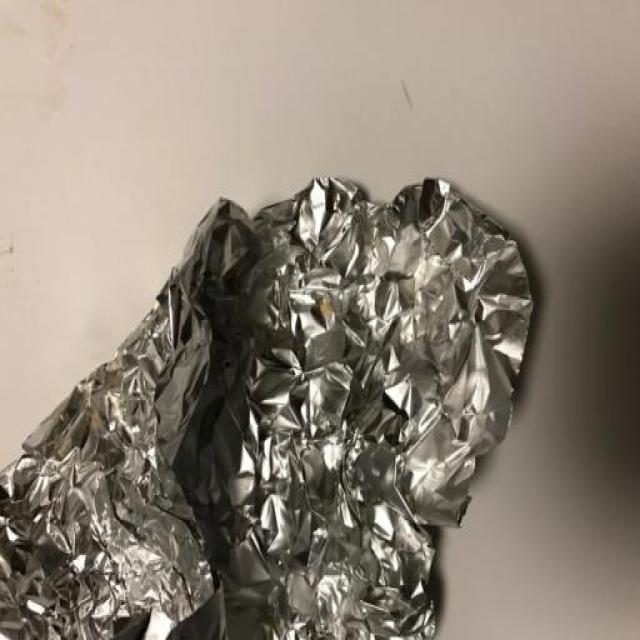others: (8, 161, 543, 640)
